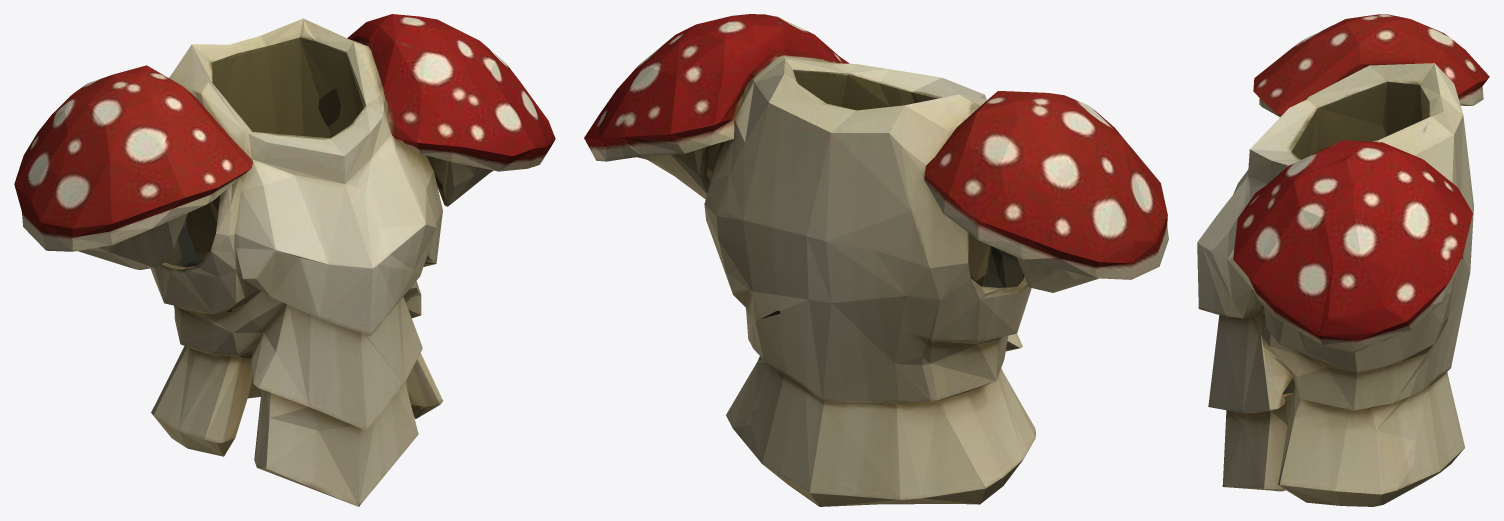
File: champignon_plastron.glb
3 views of the same model, side by side, from view 1: azimuth 30°, elevation 25°; view 2: azimuth 150°, elevation 25°; view 3: azimuth 270°, elevation 25° (orthographic). The views are drawn at different scales.
Parts seen in each view (by area): view 1: geometry_0; view 2: geometry_0; view 3: geometry_0.
Part boxes in pixels (<box>): geometry_0: <box>14,14,555,506</box>; geometry_0: <box>584,14,1168,506</box>; geometry_0: <box>1197,14,1489,506</box>.
Size of the model in its own units: 0.9961 by 0.7728 by 0.5129.
1 material, 1 textured.
